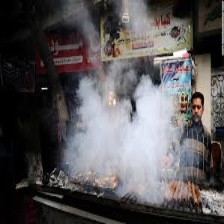smoke: (76, 85, 184, 207)
